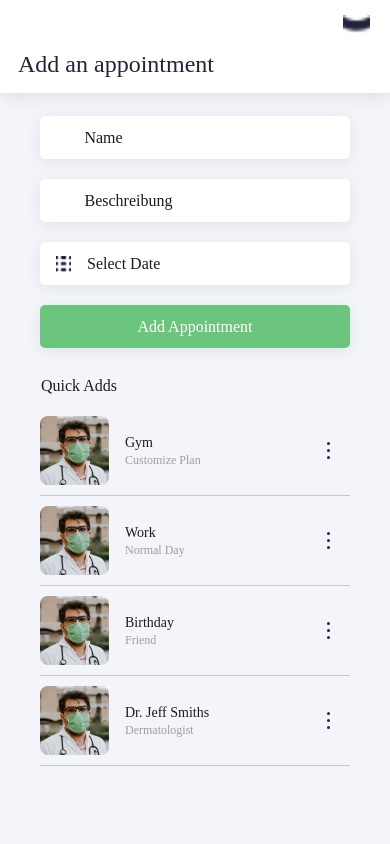
Test case: TimeManagement3Screen › fills the name and description when a quick add is pressed
Click the button with test id "quick-add-gym". click: (195, 451)
box: [40,406,350,496]
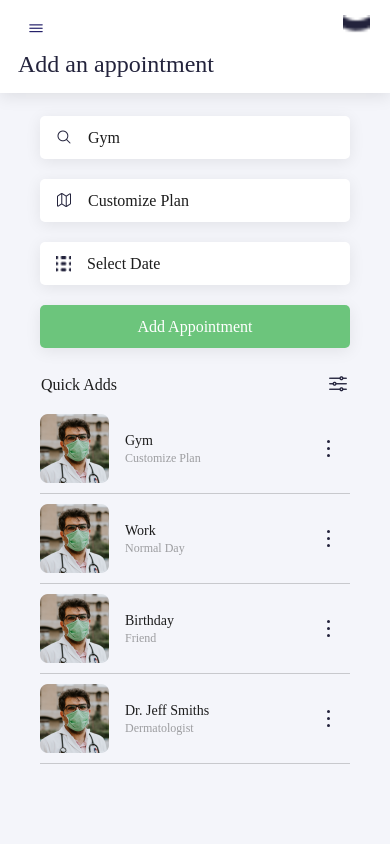
Check: the field showing "Gym" is shown, box [88,128,334,147]
Check: the field showing "Customize Plan" is shown, box [88,191,334,210]
